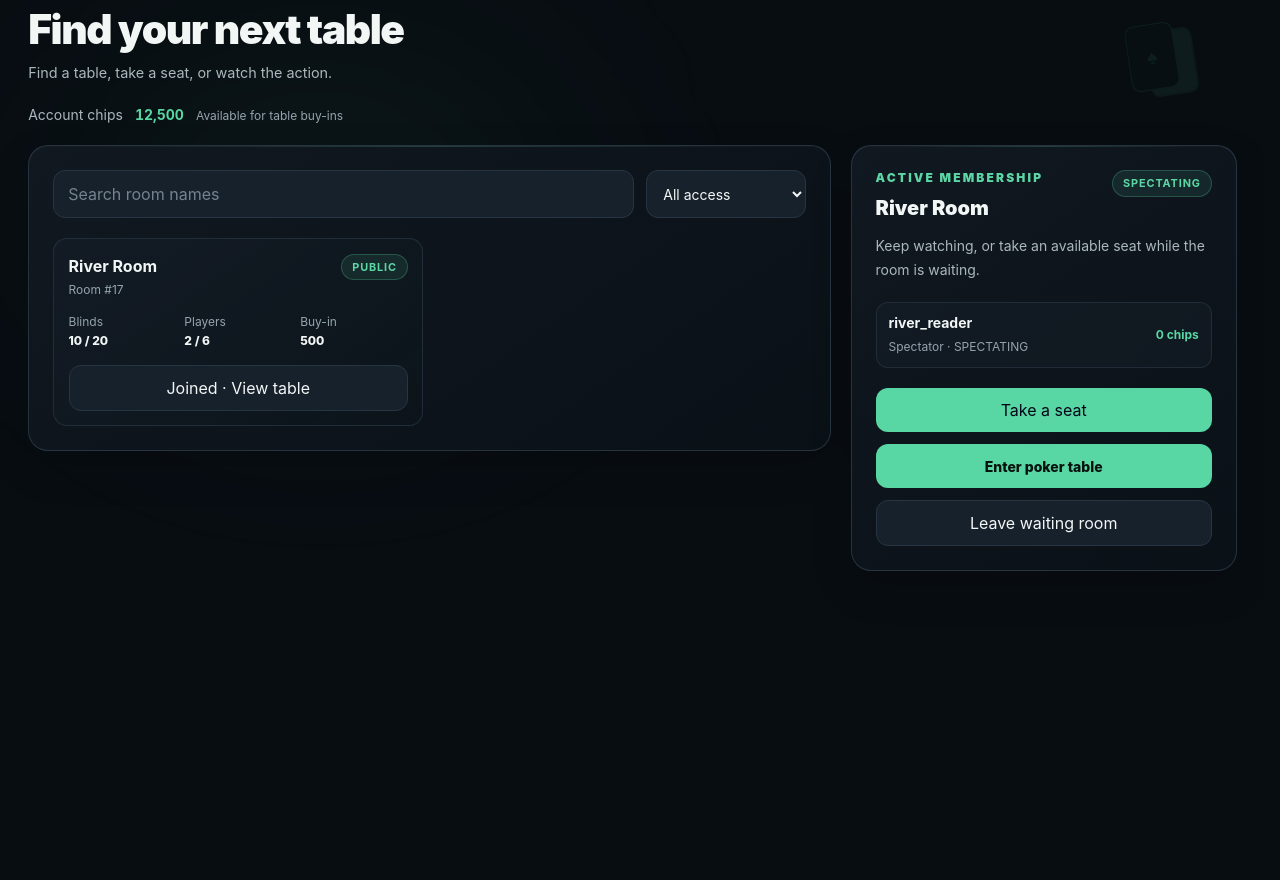
RoomsPage membership restoration › keeps the spectator membership and reports an insufficient-chip rejection
Click the button "Take a seat" at (1044, 410), box [876,388,1212,432]
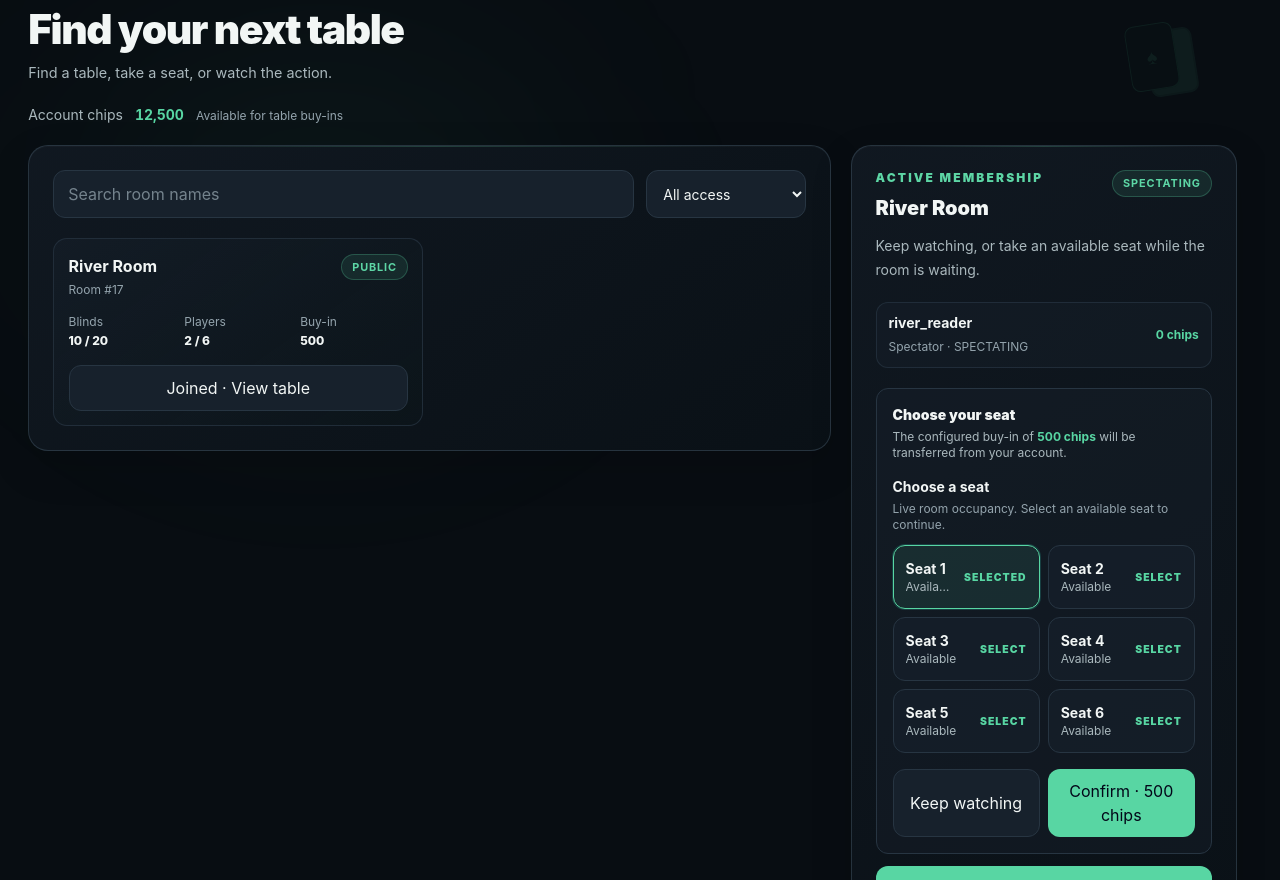
Click the button "Confirm · 500 chips" at (1121, 804), box [1048,770,1195,838]
(page scrolled)
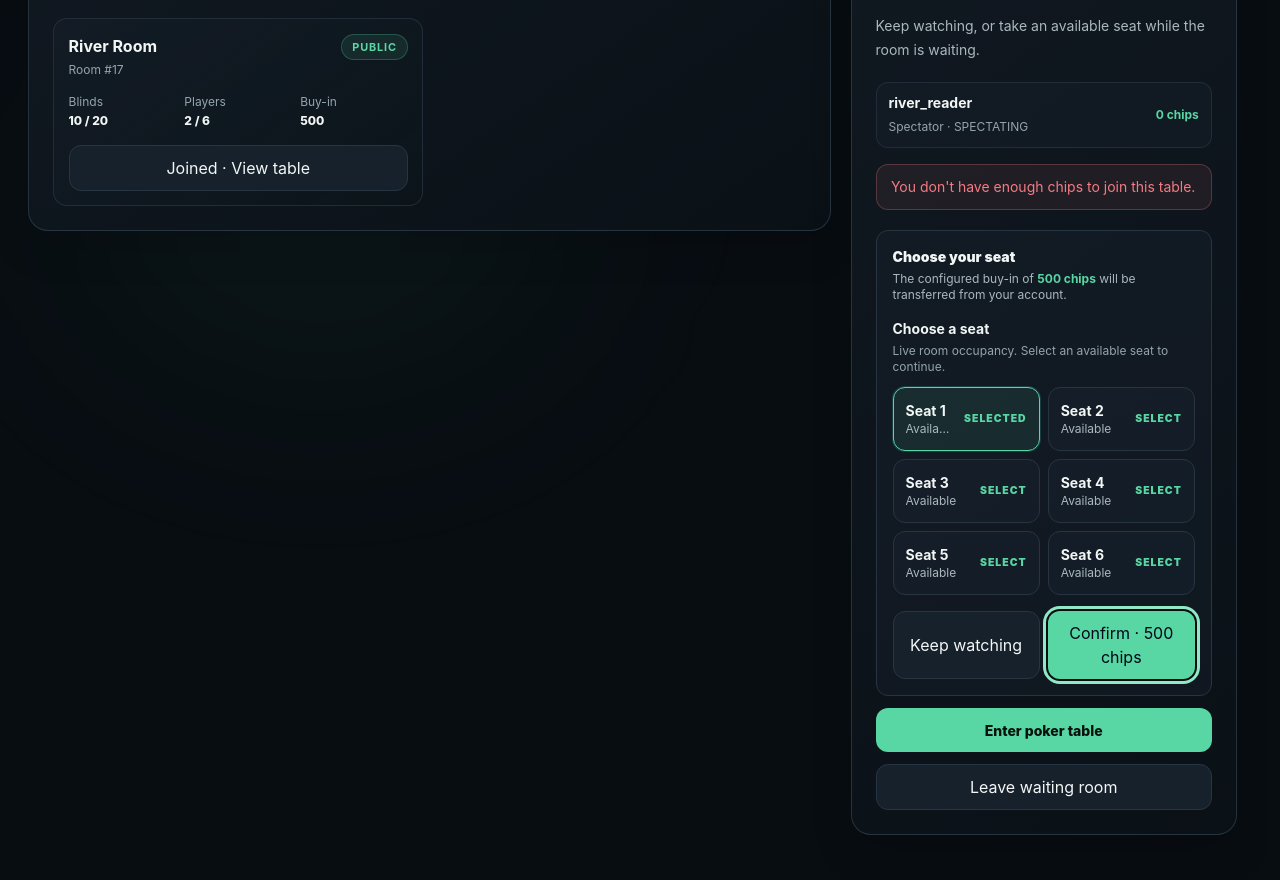
expect the text "Spectator · SPECTATING" is shown: met, box [888,120,1028,134]
expect the button "Keep watching" is shown: met, box [892,611,1040,679]
expect the message reads "You don't have enough chips to join this table.": met, box [891,178,1195,196]
